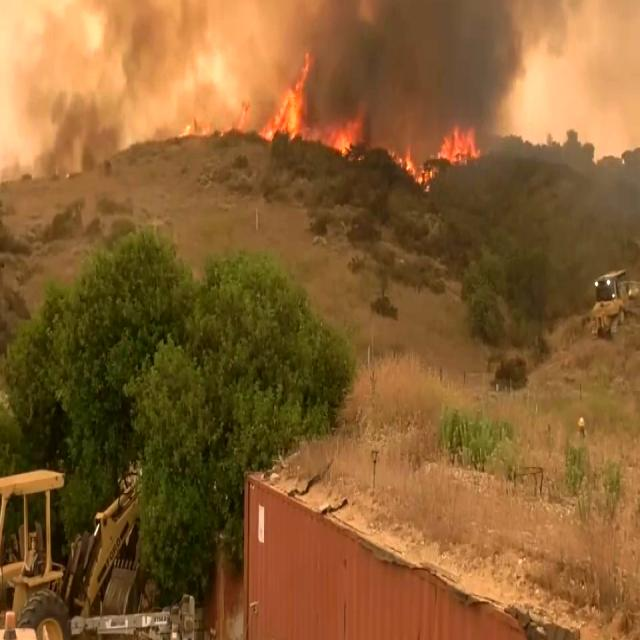fire: (260, 86, 326, 154), (438, 125, 490, 174)
smoke: (349, 0, 493, 102)
